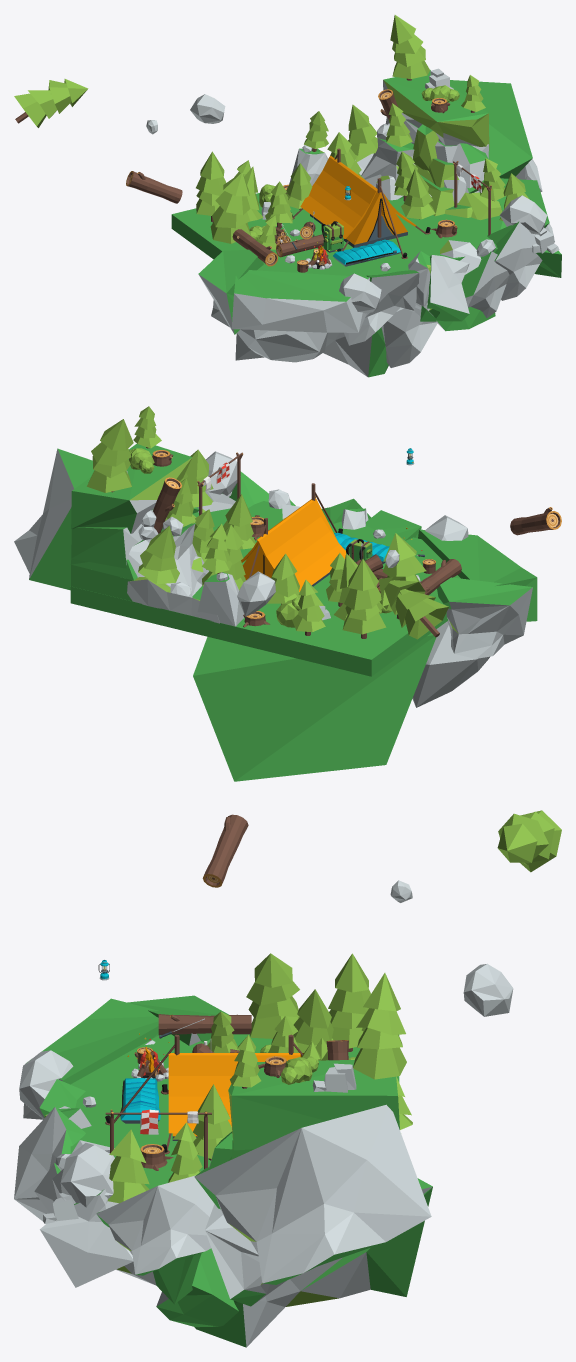
The model's file is campScene.glb.
The picture shows the model from 3 angles, top to bottom: view 1: azimuth 30°, elevation 25°; view 2: azimuth 150°, elevation 25°; view 3: azimuth 270°, elevation 25°; orthographic projection. The views are drawn at different scales.
Visible parts, largest first — view 1: group2016668438, group632722702.001, group954393760.010, group1952899948, group263612592, group954393760.011, group954393760.005, group954393760.002, group954393760.012, group76132093.006, group954393760.013, group954393760.006 (+44 smaller); view 2: group954393760.012, group2016668438, group954393760.011, group954393760.010, group1952899948, group263612592, group632722702.001, group76132093.006, group892487588.001, group1952414952, group632722702, group2025258381 (+32 smaller); view 3: group954393760.010, group954393760.012, group1952899948, group954393760.009, group2016668438, group632722702.001, group954393760.001, group1997237509, group1952414952, group954393760.005, group954393760.008, group954393760.013 (+23 smaller).
Part boxes in pixels (x1,y1,x2,y2): group2016668438: (171, 193, 502, 276); group632722702.001: (231, 270, 369, 332); group954393760.010: (450, 80, 542, 193); group1952899948: (383, 70, 489, 150); group263612592: (300, 156, 377, 238); group954393760.011: (198, 249, 263, 334); group954393760.005: (420, 255, 469, 321); group954393760.002: (487, 221, 542, 300); group954393760.012: (235, 327, 388, 377); group76132093.006: (237, 329, 327, 362); group954393760.013: (381, 307, 437, 367); group954393760.006: (461, 251, 509, 317); group954393760.012: (193, 633, 436, 781); group2016668438: (70, 501, 460, 676); group954393760.011: (437, 577, 532, 658); group954393760.010: (14, 448, 94, 590); group1952899948: (71, 444, 192, 533); group263612592: (257, 500, 349, 591); group632722702.001: (418, 529, 537, 621); group76132093.006: (412, 621, 489, 707); group892487588.001: (379, 576, 448, 639); group1952414952: (87, 419, 133, 492); group632722702: (71, 509, 153, 568); group2025258381: (342, 558, 386, 638); group954393760.010: (194, 1104, 431, 1284); group954393760.012: (194, 1178, 432, 1347); group1952899948: (228, 1059, 399, 1150); group954393760.009: (96, 1175, 214, 1275); group2016668438: (70, 1034, 399, 1189); group632722702.001: (23, 998, 158, 1119); group954393760.001: (40, 1189, 133, 1287); group1997237509: (168, 1053, 300, 1133); group1952414952: (353, 973, 406, 1079); group954393760.005: (14, 1107, 85, 1221); group954393760.008: (205, 1204, 286, 1306); group954393760.013: (156, 1248, 238, 1327).
Size of the model in its own units: 10.41 by 6.6 by 8.
